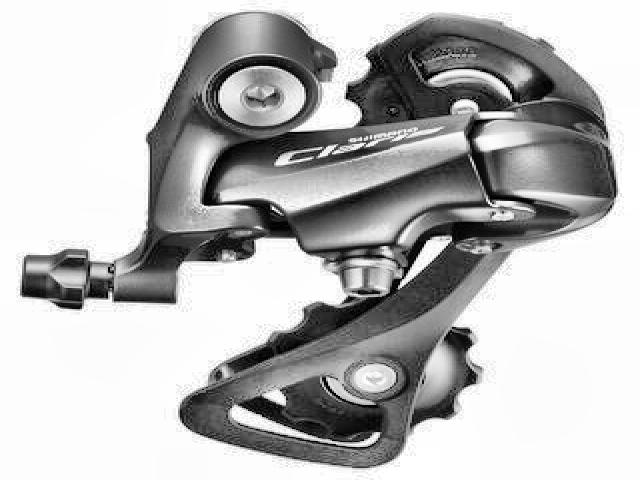rear_derailleur: (16, 6, 620, 470)
